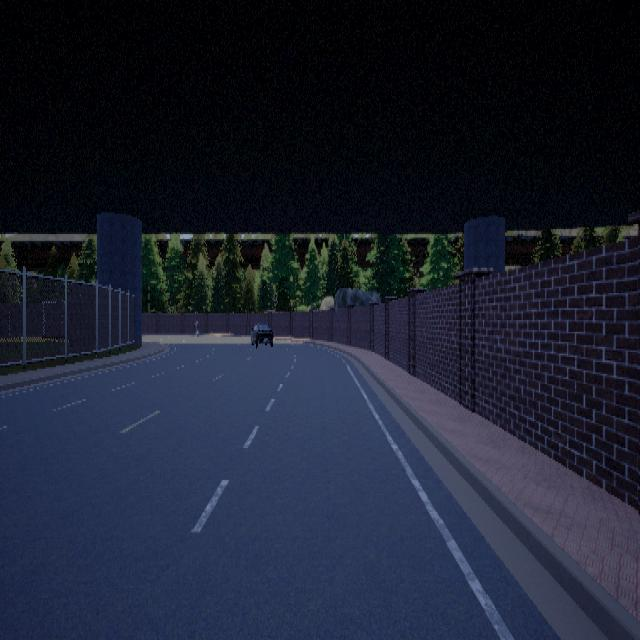vehicle: (250, 322, 272, 347)
